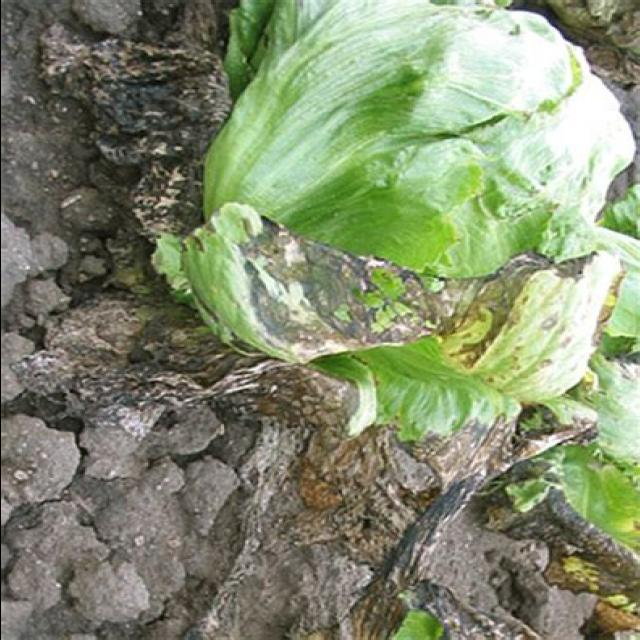Baby: (248, 209, 458, 353)
